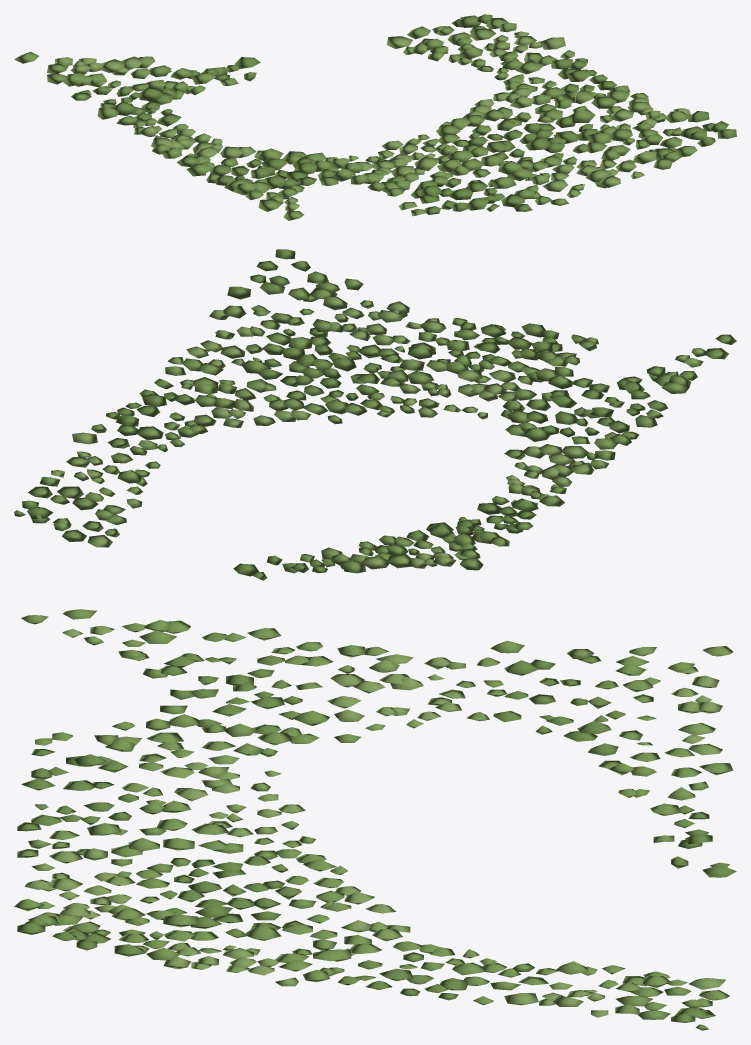
Rendered from canopy-1--5--5.glb.
The picture shows the model from 3 angles, top to bottom: view 1: azimuth 30°, elevation 25°; view 2: azimuth 150°, elevation 25°; view 3: azimuth 270°, elevation 25°; orthographic projection. The views are drawn at different scales.
Size of the model in its own units: 522 by 112 by 520.
1 material, 1 textured.
